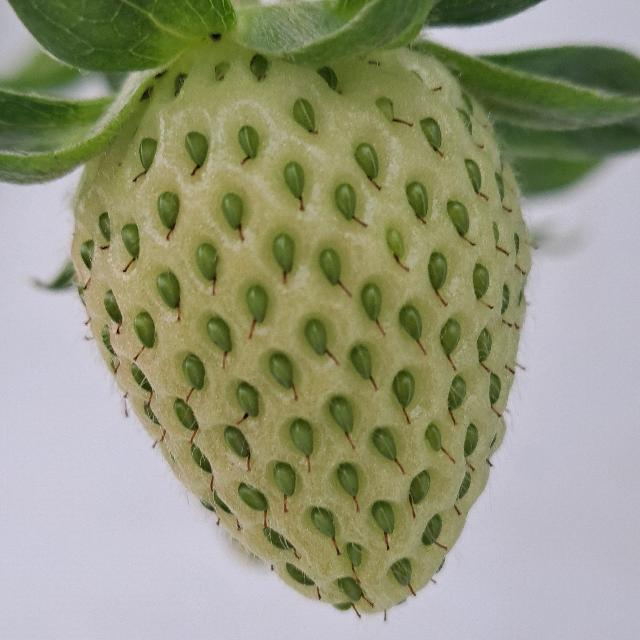Health_25: (70, 34, 532, 614)
